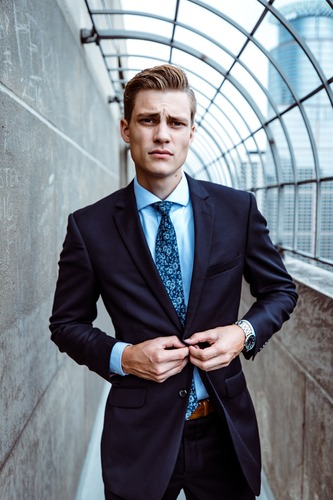without_mask: (129, 101, 190, 174)
